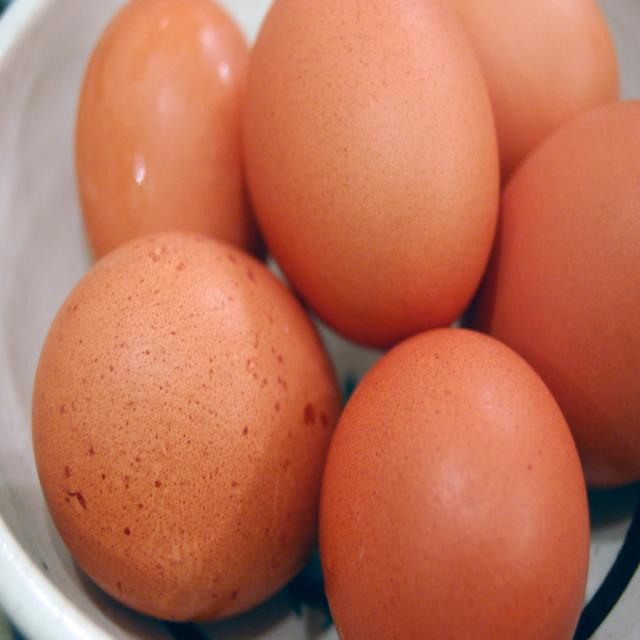Egg: (29, 0, 639, 639)
